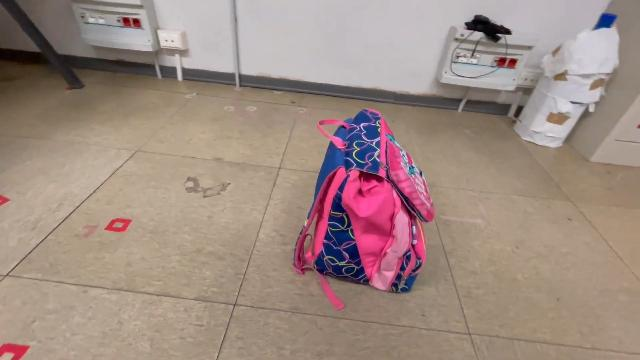Backpack: (288, 102, 438, 314)
